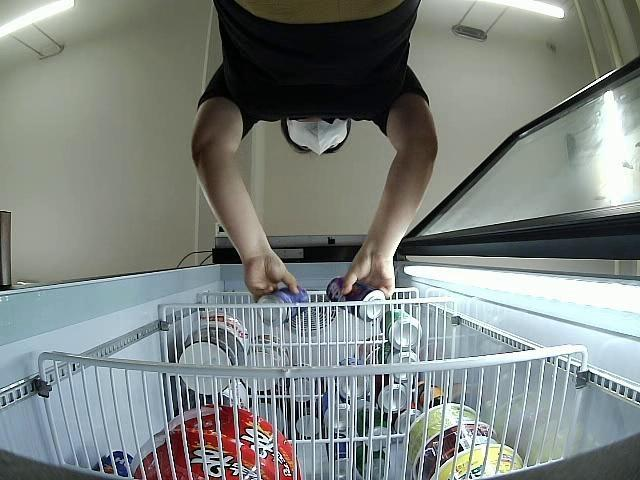14_welchsGrape: (324, 276, 386, 322), (255, 286, 310, 326)
